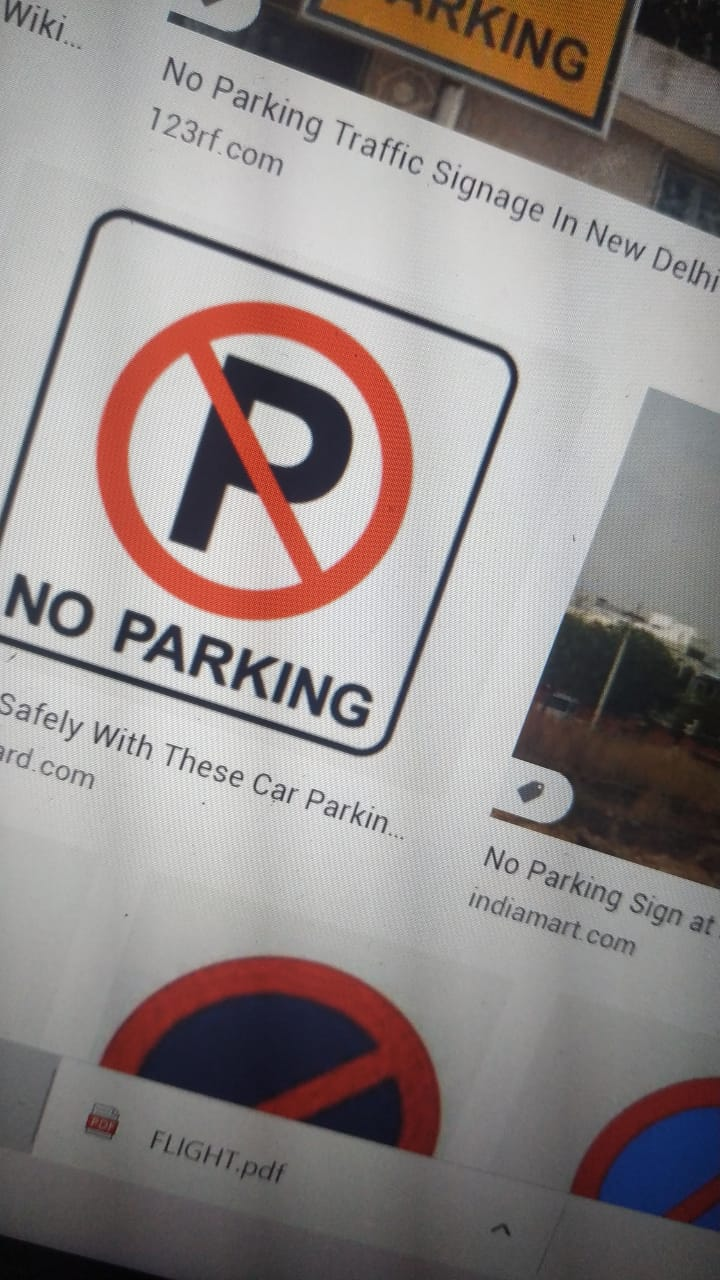NO PARKING: (91, 258, 433, 629)
